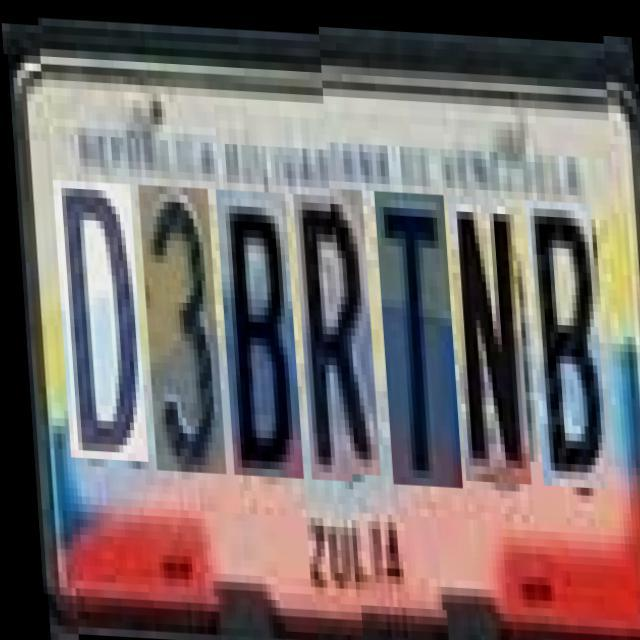3: (136, 176, 220, 464)
B: (213, 179, 297, 468), (522, 193, 602, 482)
D: (50, 172, 142, 452)
N: (446, 190, 526, 479)
R: (290, 183, 374, 472)
T: (372, 187, 456, 482)
